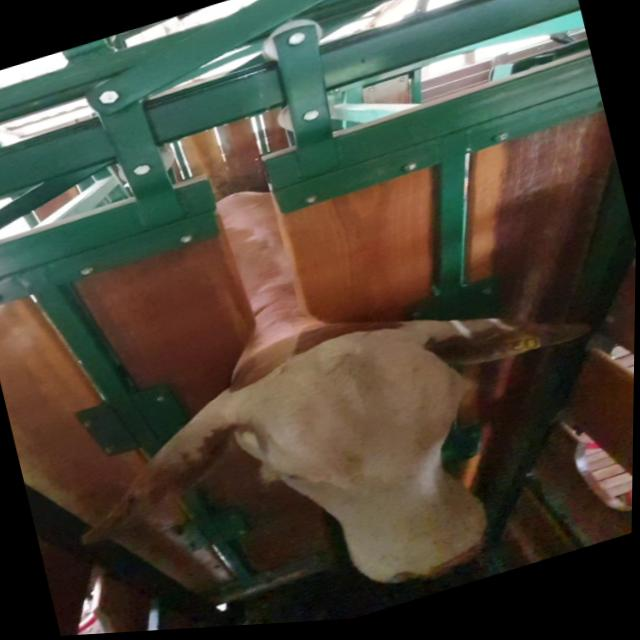cowFace: (241, 307, 510, 620)
